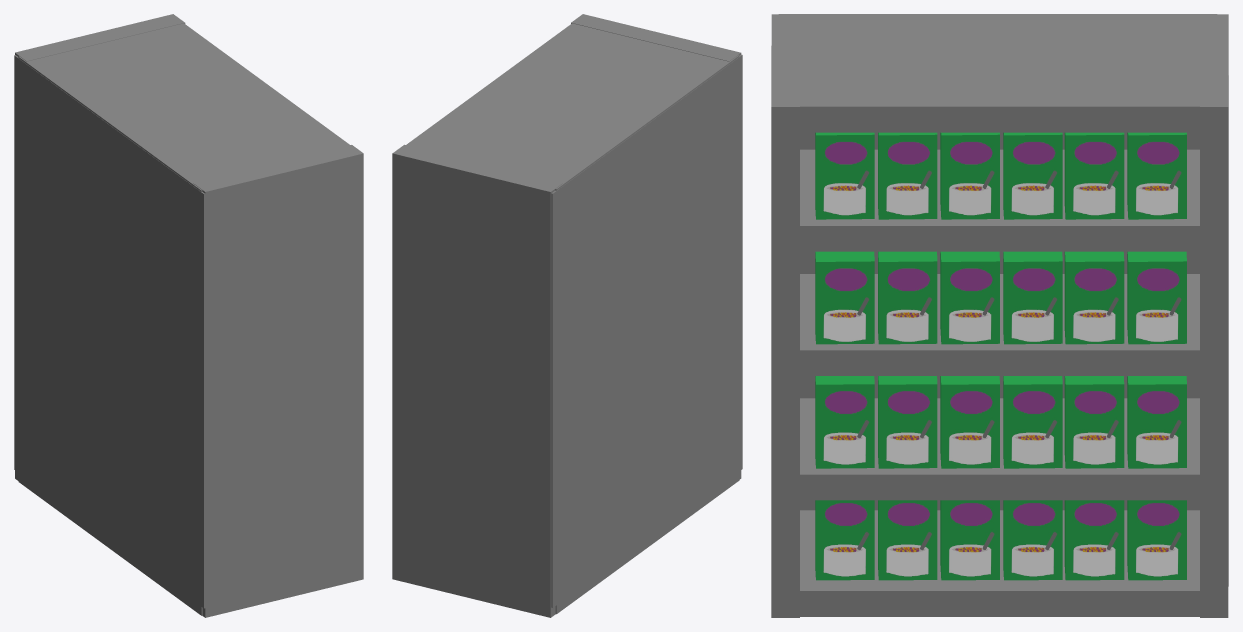
The model's file is green_cereal_shelf.gltf.
The picture shows the model from 3 angles, left to right: view 1: azimuth 30°, elevation 25°; view 2: azimuth 150°, elevation 25°; view 3: azimuth 270°, elevation 25°; orthographic projection. The views are drawn at different scales.
Parts seen in each view (by area): view 1: Cube.003; view 2: Cube.003; view 3: Cube.003, Cube.021, Cube.012, Cube.011, Cube.013.
Boxes of the visible parts, <box> form: Cube.003: <box>14,14,363,617</box>; Cube.003: <box>392,14,742,617</box>; Cube.003: <box>771,14,1228,617</box>; Cube.021: <box>815,251,1186,344</box>; Cube.012: <box>815,376,1186,468</box>; Cube.011: <box>815,132,1186,219</box>; Cube.013: <box>815,500,1186,580</box>.
Bounding box in the file's own units: 4.03 × 10.28 × 8.34.
Materials: 3 (1 with a texture image).
